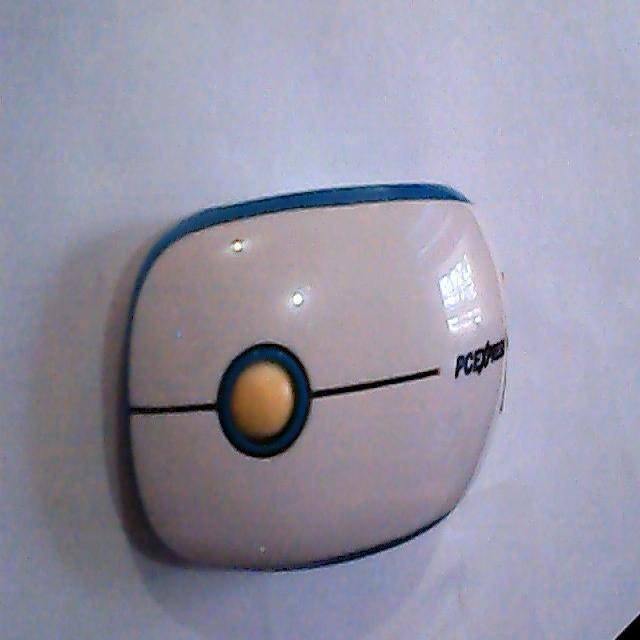-laptop-: (119, 178, 512, 578)
